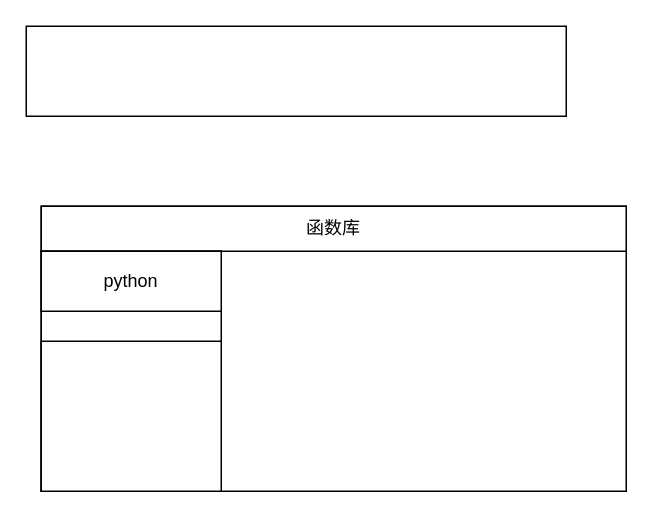
Some shapes in this 653 by 518 pixel diagram are drawn without their labels. Here are the shapes that lost their labels. From the top down, the centre of each, then its label:
At pixel 295 70: "缺失值处理：从信息角度，通过某一维度数据缺失比决定是否丢弃该维度数据".
At pixel 130 415: "pandas".
